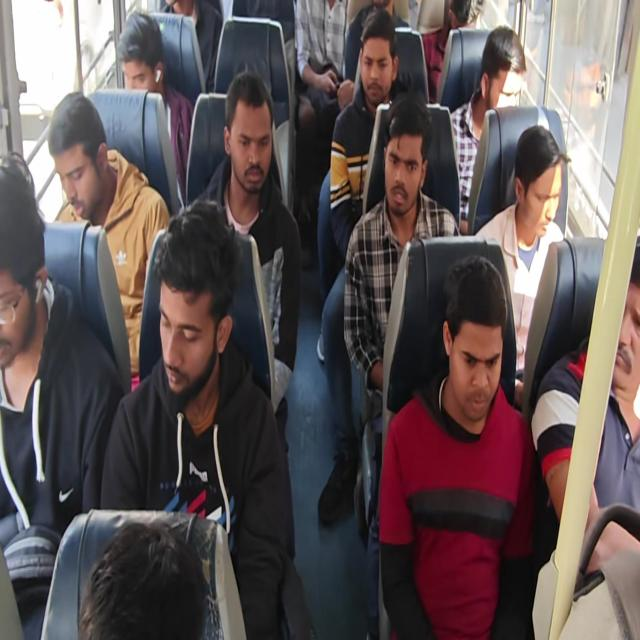person: (86, 509, 204, 640), (148, 221, 223, 400), (439, 277, 507, 425), (0, 163, 38, 371), (521, 106, 573, 250), (601, 235, 640, 408), (55, 115, 119, 217), (213, 91, 278, 190), (374, 118, 423, 232), (486, 25, 524, 130), (116, 31, 166, 99), (363, 36, 395, 105), (443, 0, 482, 42)
